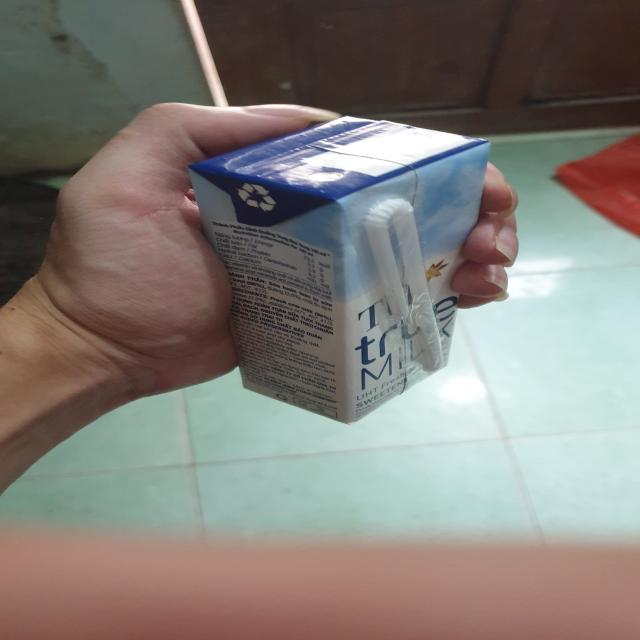TH: (183, 115, 503, 429)
